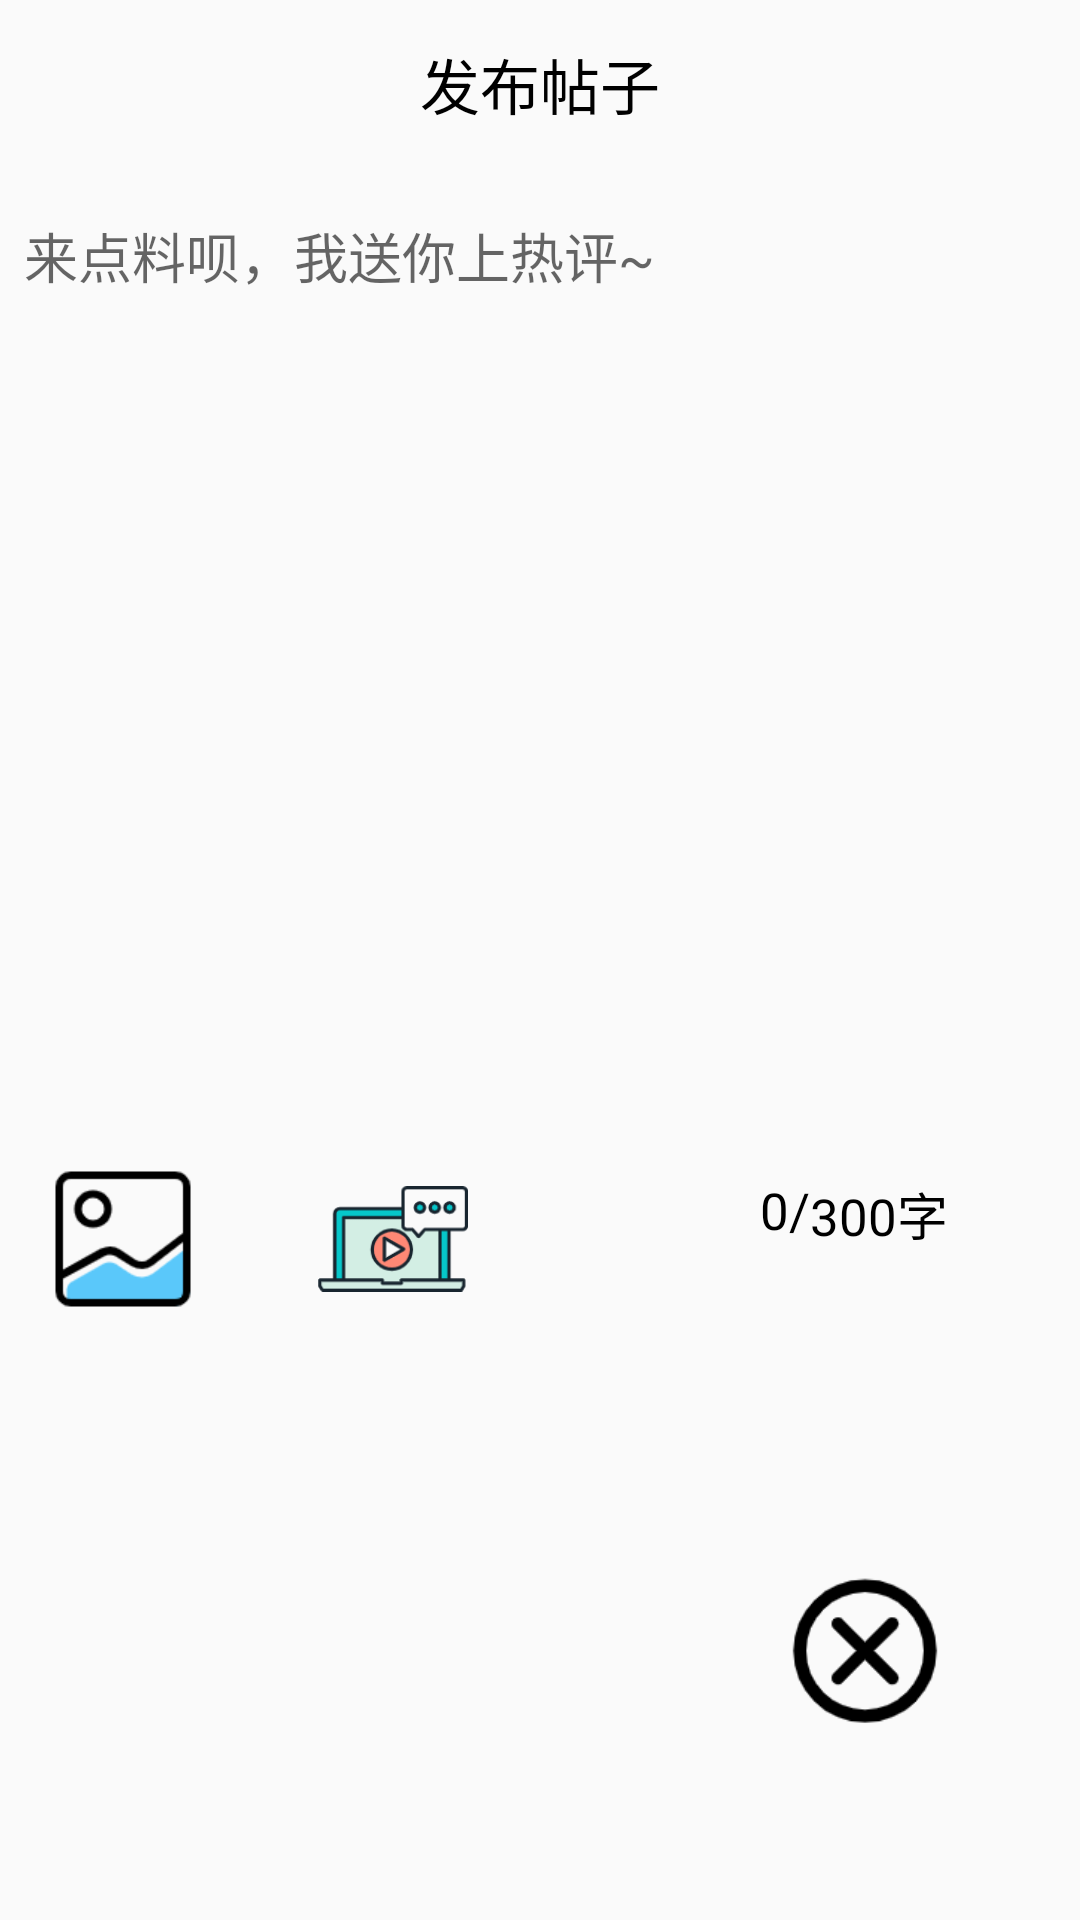

Icons on this 1080w x 1920h Android screen, each with its box as (x1, y1, x2, y2):
post photo: (55, 1171, 191, 1307)
post video: (318, 1186, 468, 1292)
uncheck: (792, 1578, 938, 1723)
